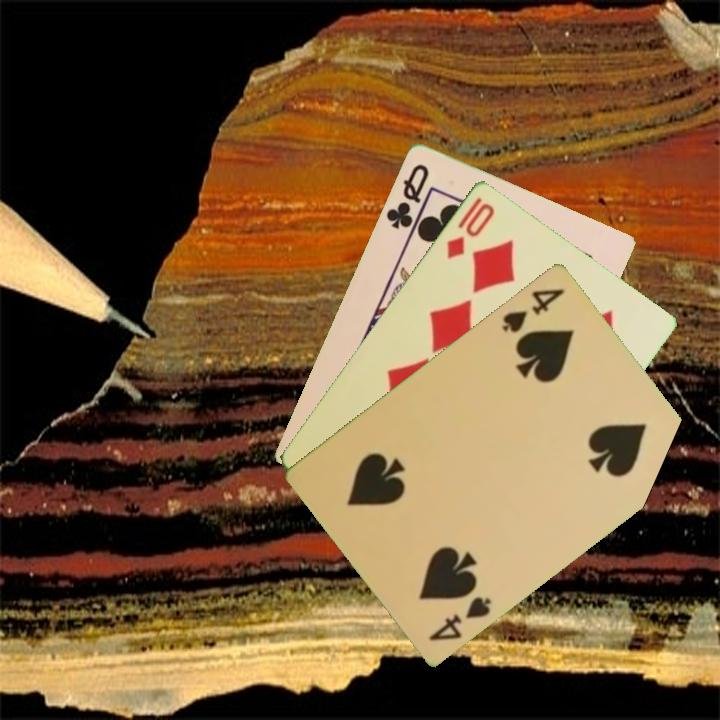10d: (442, 193, 498, 262)
4s: (498, 284, 568, 335), (425, 592, 495, 643)
Qc: (382, 160, 432, 232)
